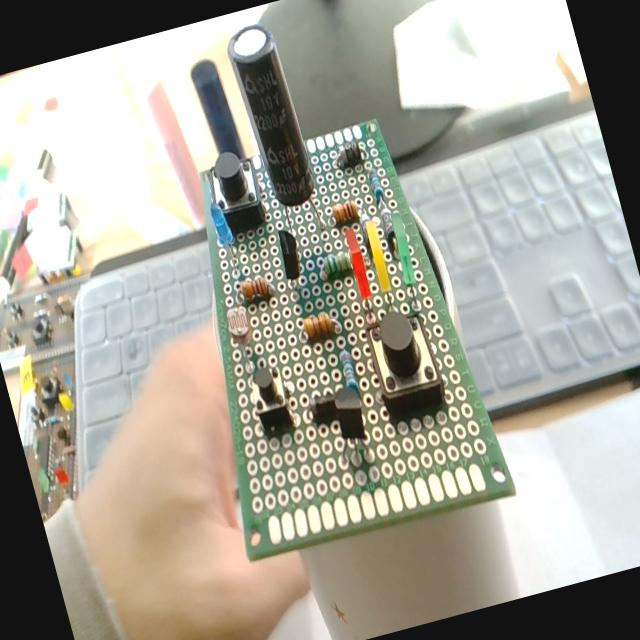Electrolytic capacitor: (223, 20, 320, 212)
cds: (224, 305, 262, 371)
diode: (375, 198, 401, 254), (307, 390, 338, 426), (332, 140, 366, 170)
led: (384, 210, 426, 312), (341, 224, 381, 328), (362, 218, 398, 310), (206, 198, 242, 274)
resistor: (301, 310, 340, 342), (317, 250, 354, 280), (238, 274, 274, 304), (338, 348, 360, 396), (330, 198, 360, 226), (367, 168, 385, 202)
switch: (362, 305, 448, 421), (205, 152, 272, 238), (243, 358, 298, 437)
transistor: (276, 225, 310, 297), (330, 382, 370, 442)
